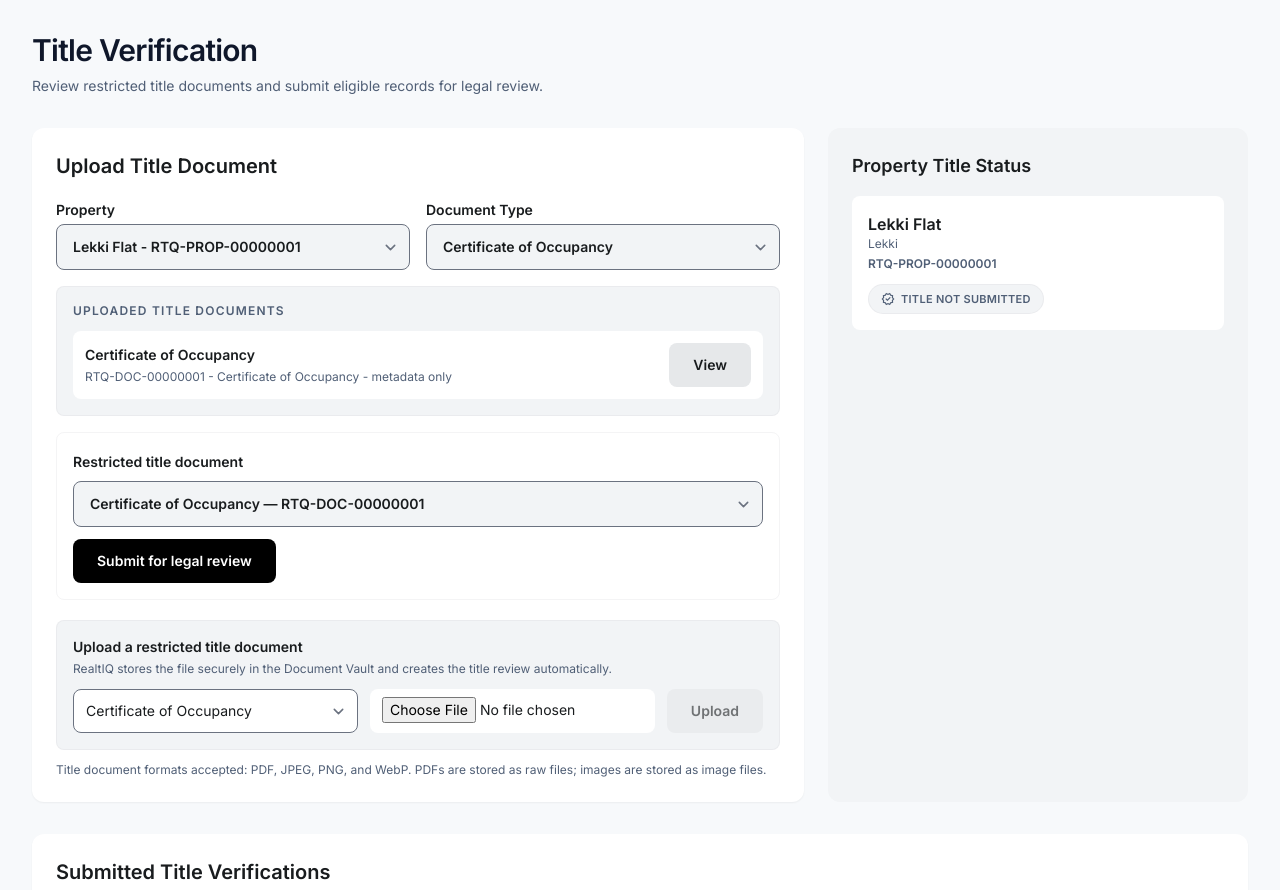
Test: LandlordTitleVerifications › validates title document selection and keeps state while displaying duplicate hash conflicts neutrally
Select "Certificate of Occupancy — RTQ-DOC-00000001" in the dropdown labelled "Restricted title document" at (418, 504), box x1=73 y1=481 x2=763 y2=527
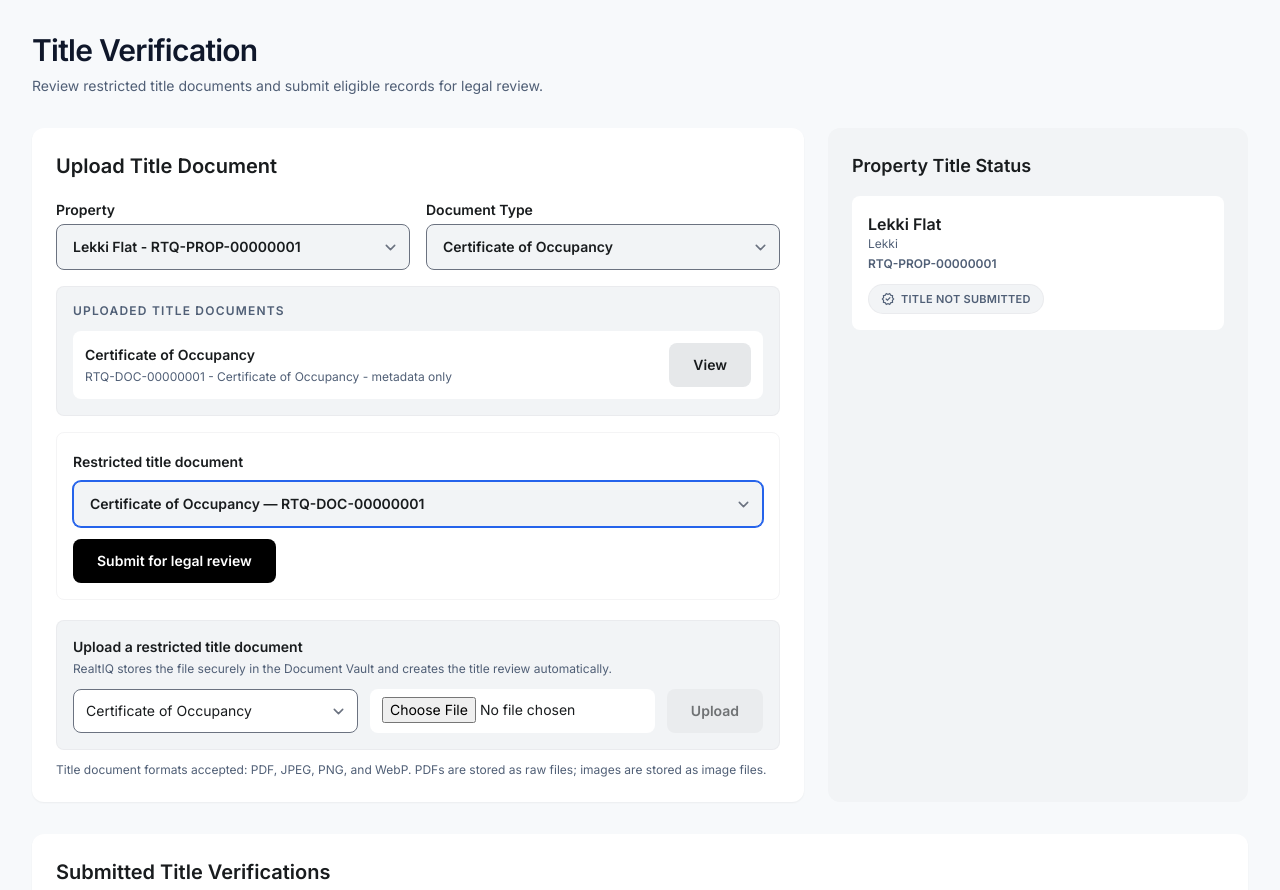
Click the button "Submit for legal review" at (174, 561), box x1=73 y1=539 x2=276 y2=583
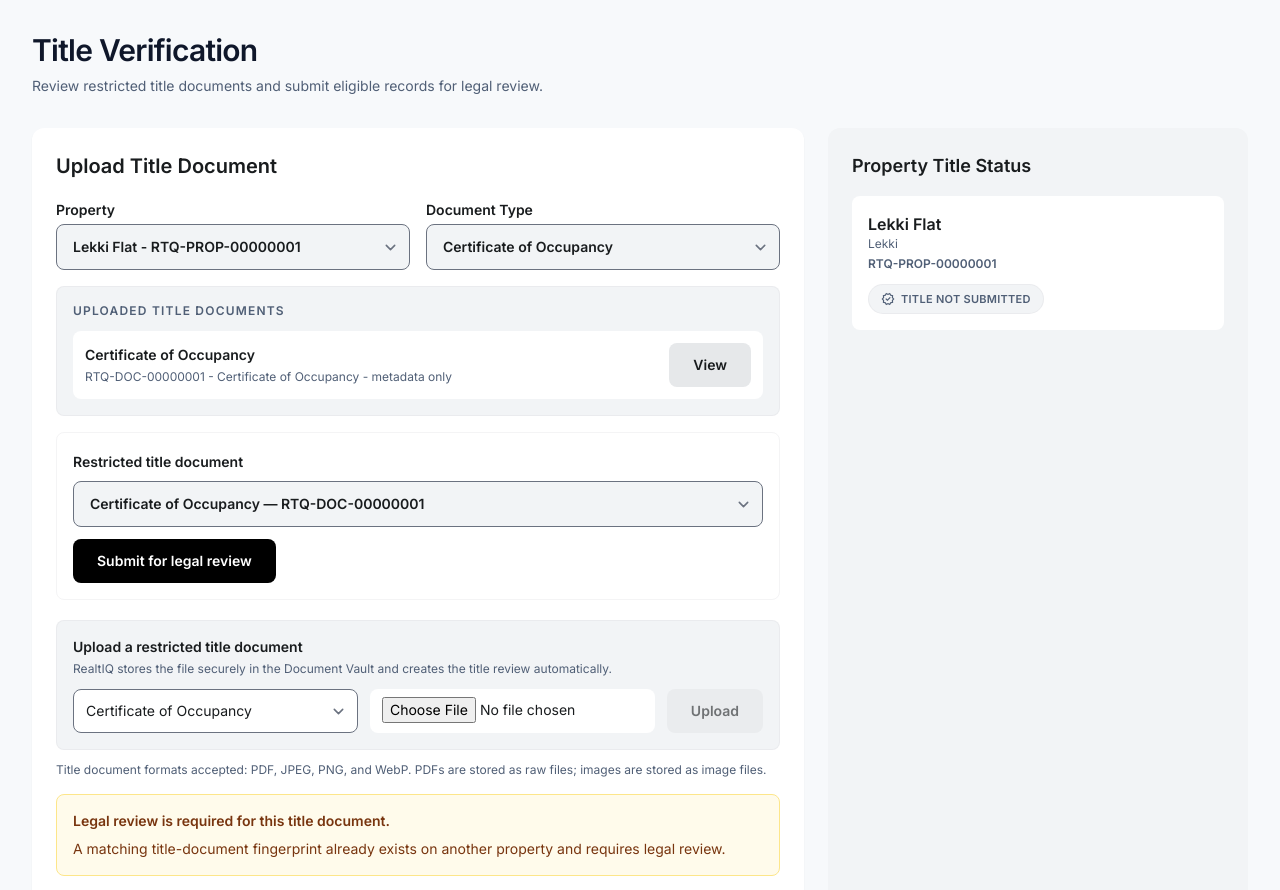
Check: the list item "requires legal review" is shown, box x1=73 y1=840 x2=726 y2=857
